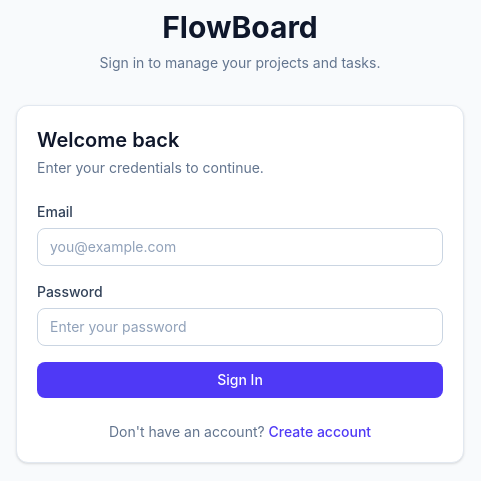
Scenario: LoginPage › should show loading state while login is in progress
The width and height of the screenshot is (481, 481).
Type "sachin@example.com" into the field labelled "Email" at (240, 247), box [37, 228, 443, 266]
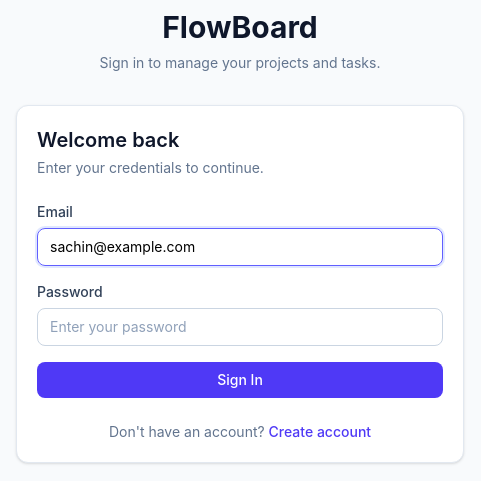
Type "Password123" into the password field labelled "Password" at (240, 327), box [37, 308, 443, 346]
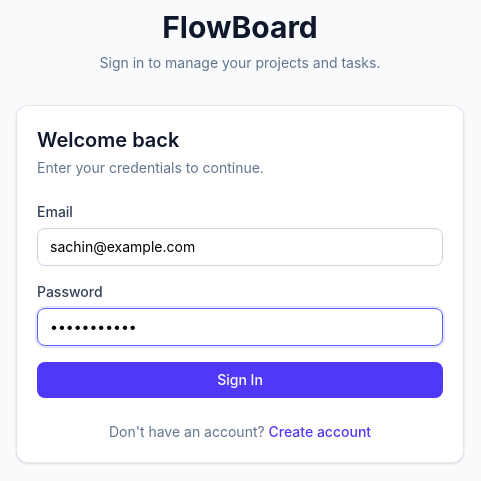
Click the button "Sign In" at (240, 380), box [37, 362, 443, 398]
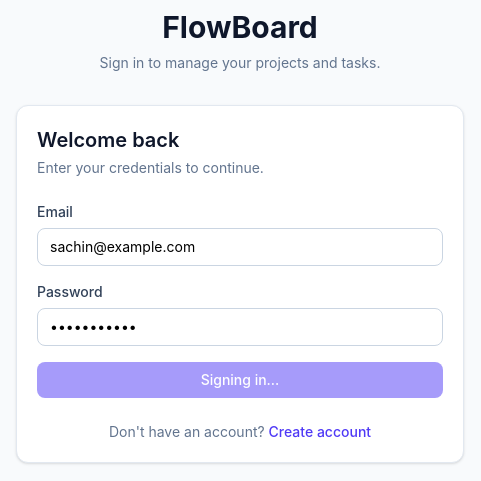
expect the button "Signing in..." is disabled: met, box [37, 362, 443, 398]
